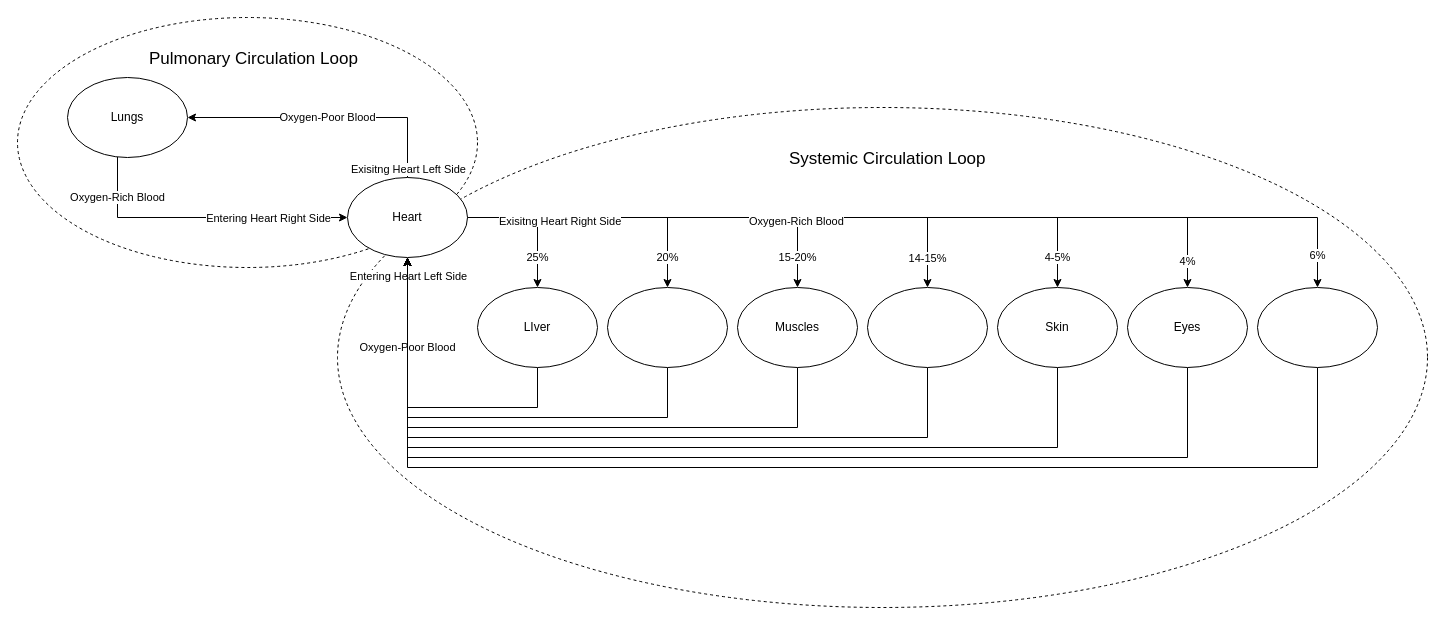
The diagram is 1445 pixels wide and 625 high, and some of its shapes have lost their labels. The box of each missing label's shape, as (x1, y1, x2, y2) in pixels:
Brain: (866, 286, 988, 368)
Kidneys: (606, 286, 728, 368)
Other: (1256, 286, 1378, 368)
